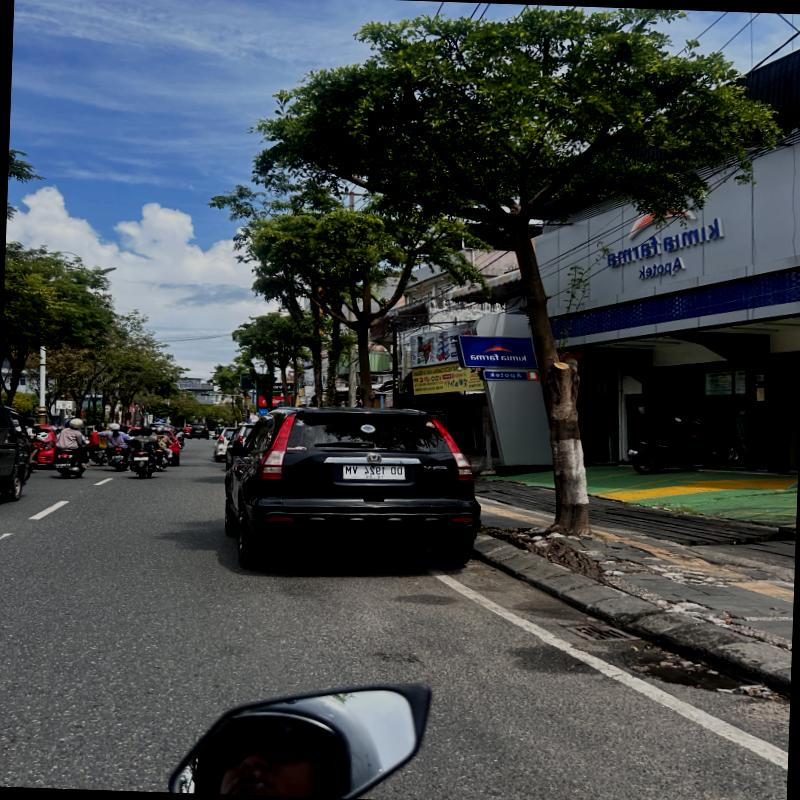license plate on a car: (342, 465, 405, 479)
